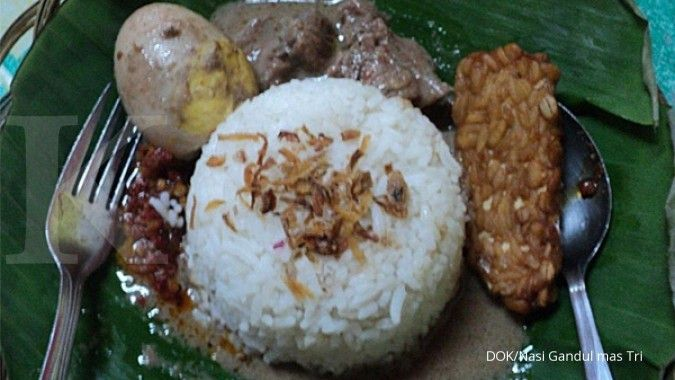Nasi Putih: (177, 95, 476, 353)
